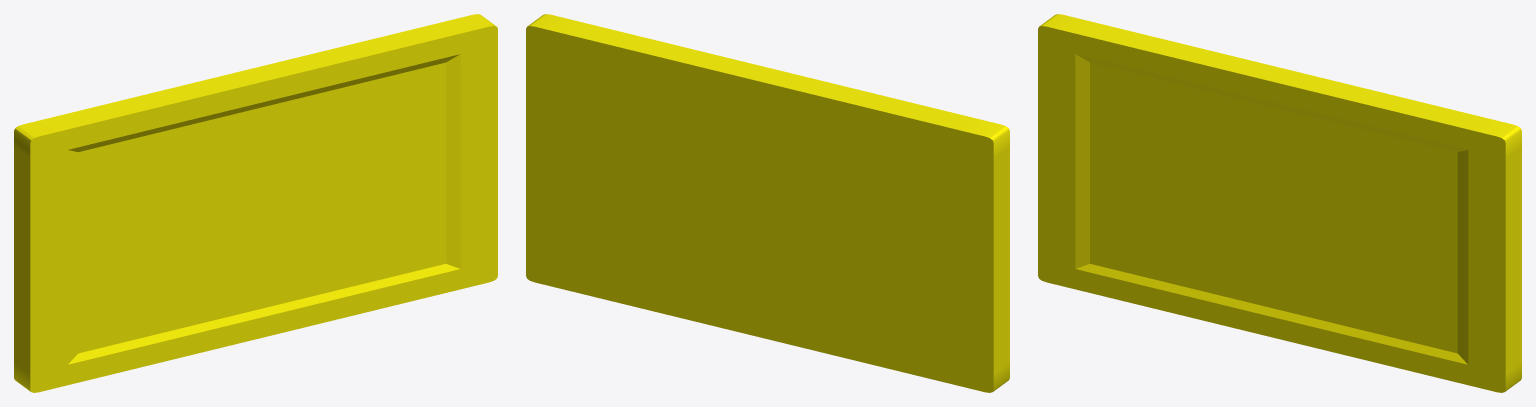
File: umgebung_bilderrahmen_wand_gross.FBX
3 renders of one model, left to right at view 1: azimuth 30°, elevation 25°; view 2: azimuth 150°, elevation 25°; view 3: azimuth 330°, elevation 25°, orthographic.
Visible parts, largest first — view 1: o_bilderrahmen_gross_low; view 2: o_bilderrahmen_gross_low; view 3: o_bilderrahmen_gross_low.
Part boxes in pixels (x1,y1,x2,y2): o_bilderrahmen_gross_low: [14, 14, 497, 392]; o_bilderrahmen_gross_low: [526, 14, 1009, 392]; o_bilderrahmen_gross_low: [1038, 14, 1521, 392].
Size of the model in its own units: 155 by 80.94 by 9.36.
